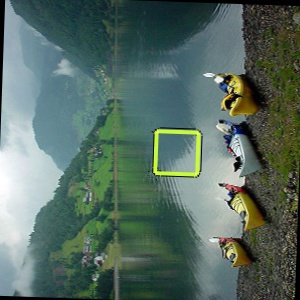square: (150, 126, 205, 180)
